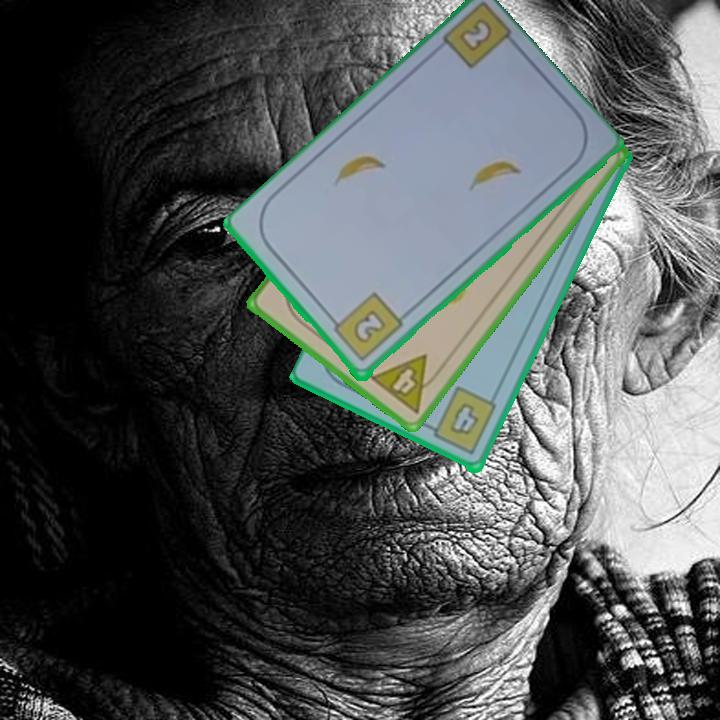2b: (326, 289, 406, 365), (459, 18, 492, 52)
4b: (422, 384, 500, 459)
4p: (366, 350, 446, 417)
